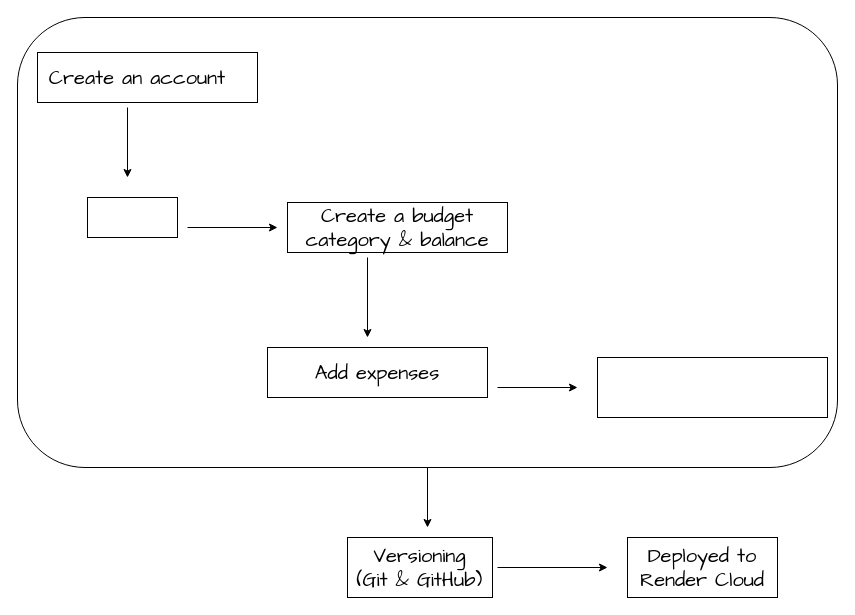
This 855x615 diagram has some shape labels left out. The centre of each missing label's shape, as x and y in pixels:
Login: pixel 132 217
View Data on Spending per category: pixel 712 387
